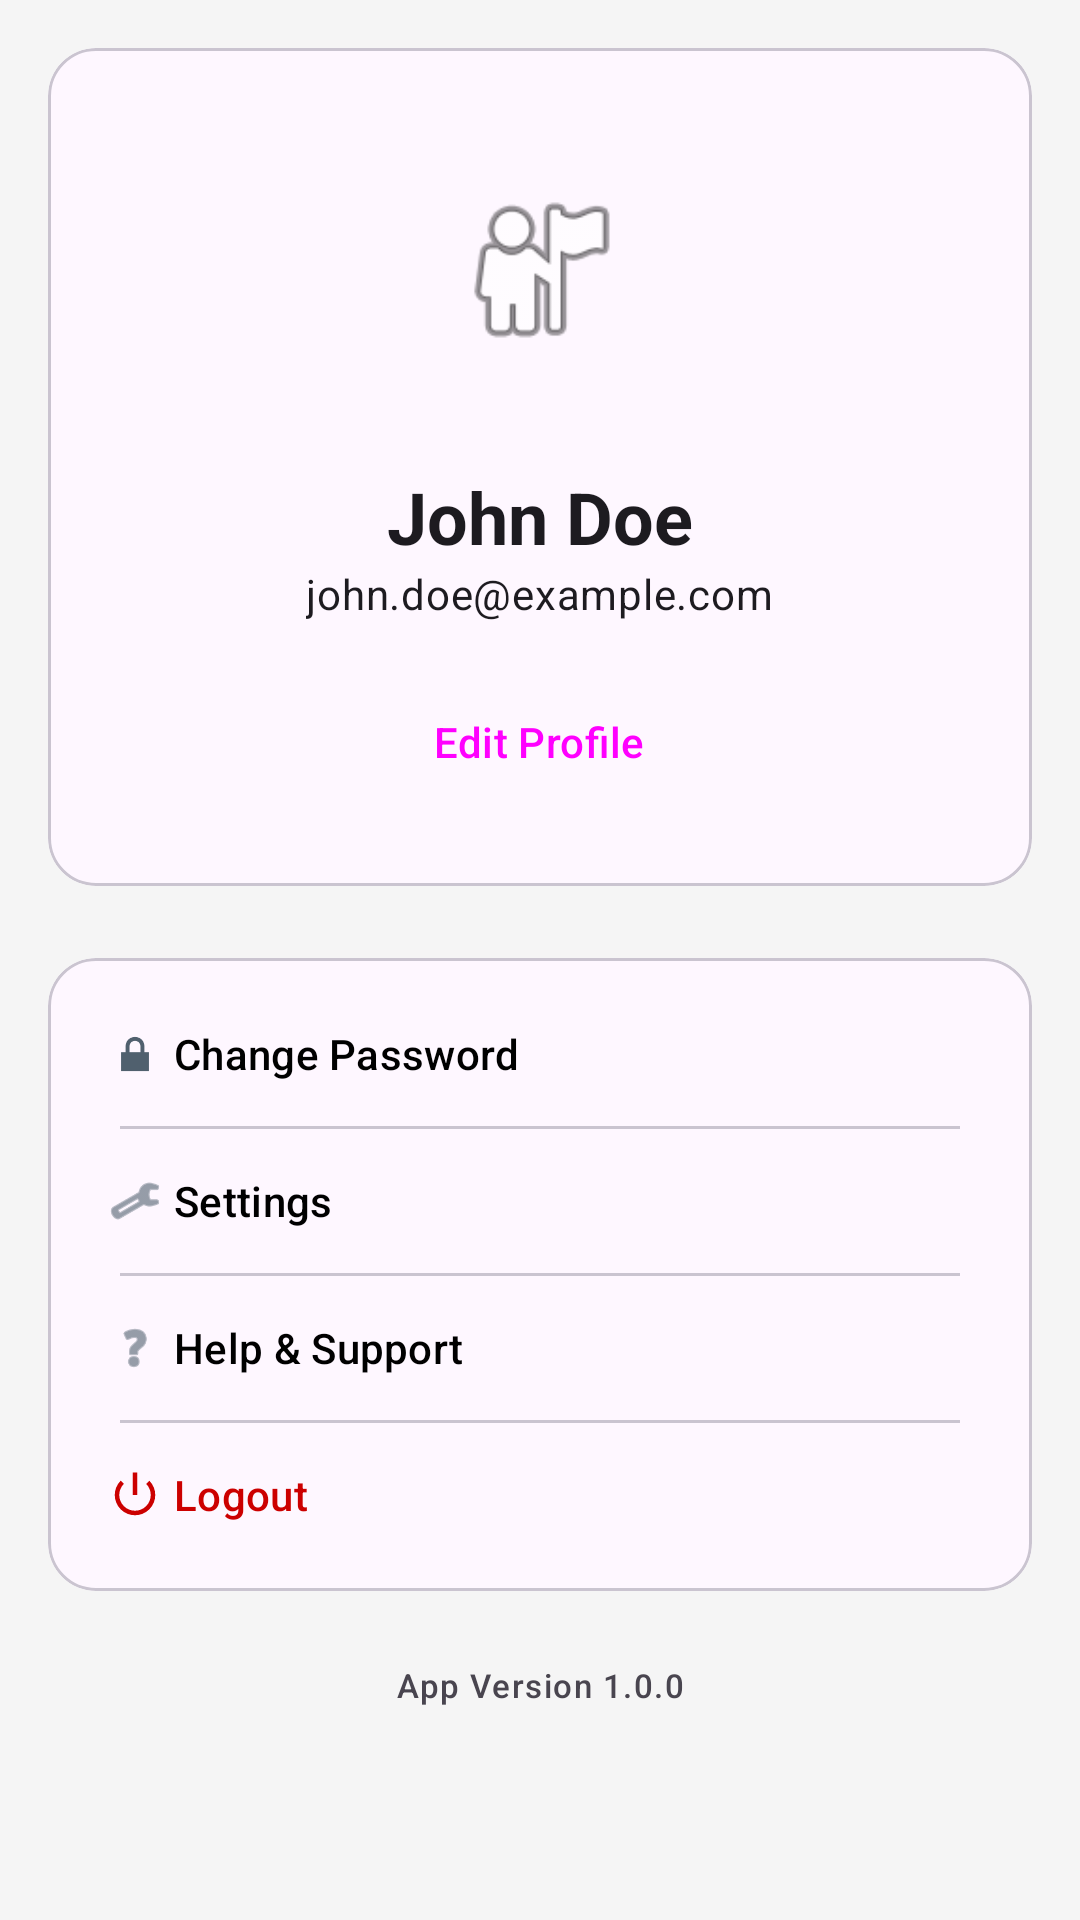

Screen size 1080w x 1920h. Icon name, then its box in pixels as detection(x1, y1, x2, y2):
myplaces: detection(474, 203, 610, 337)
